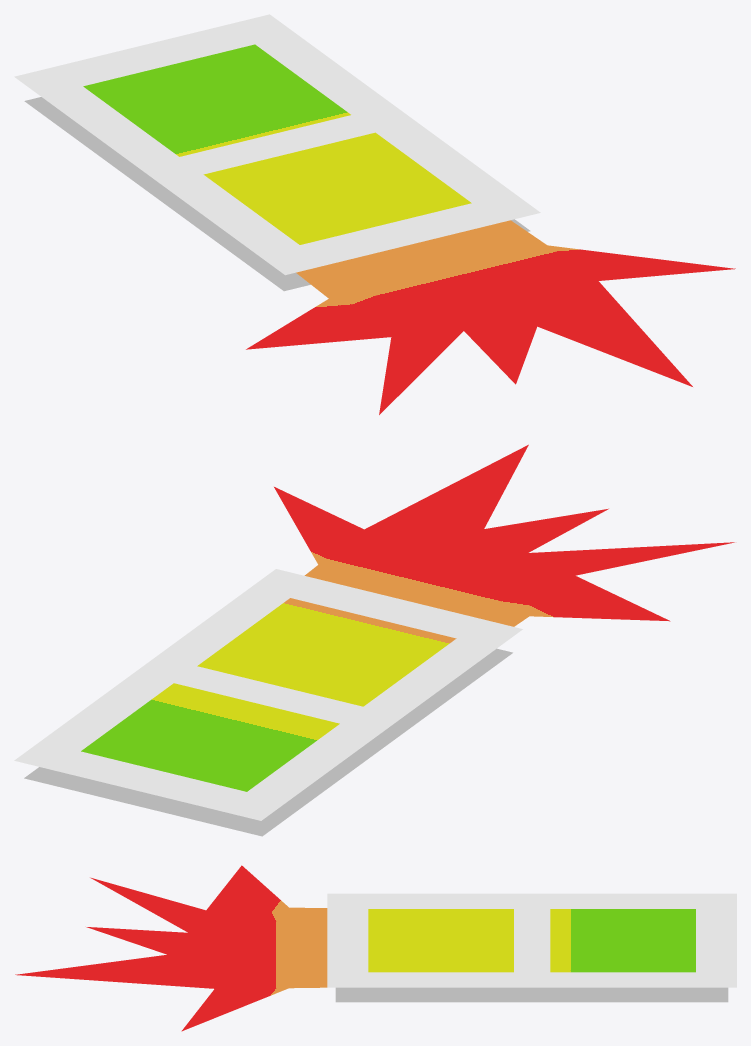
The model's file is actionbar.glb.
The picture shows the model from 3 angles, top to bottom: view 1: azimuth 30°, elevation 25°; view 2: azimuth 150°, elevation 25°; view 3: azimuth 270°, elevation 25°; orthographic projection. The views are drawn at different scales.
Parts seen in each view (by area): view 1: Plane; view 2: Plane; view 3: Plane.
Boxes of the visible parts, box(x1,y1,x2,y2) form: Plane: box(14, 14, 735, 414); Plane: box(14, 444, 734, 836); Plane: box(15, 865, 736, 1031).
Bounding box in the file's own units: 1.92 × 0.0866 × 3.53.
Materials: 1 (1 with a texture image).
